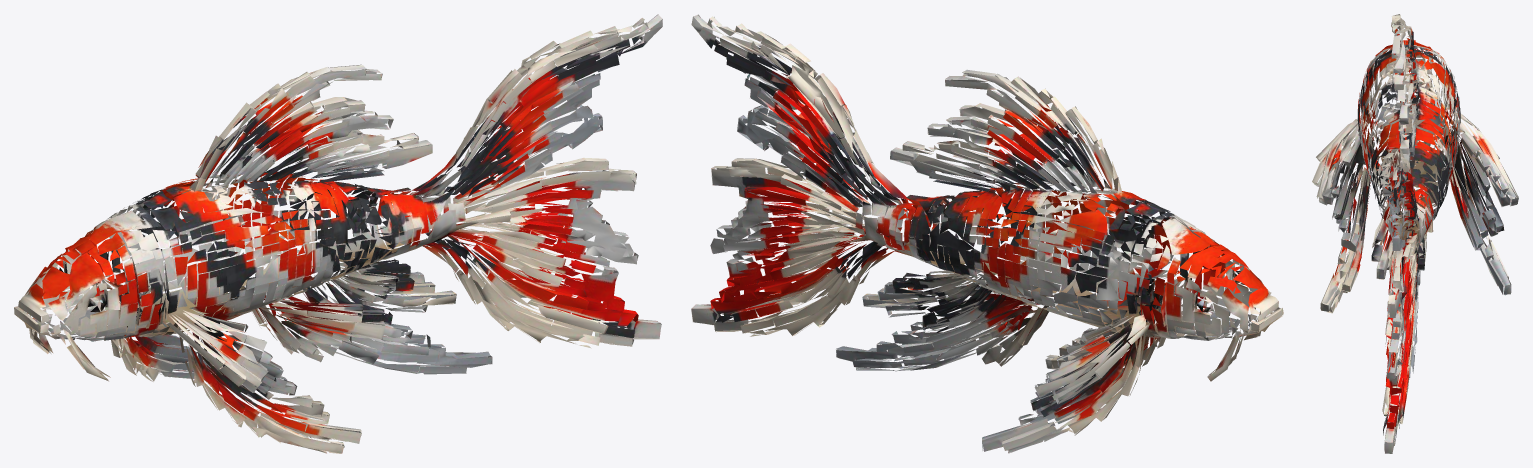
The model's file is butterfly_koi_a.glb.
The picture shows the model from 3 angles, left to right: view 1: azimuth 30°, elevation 25°; view 2: azimuth 150°, elevation 25°; view 3: azimuth 270°, elevation 25°; orthographic projection. The views are drawn at different scales.
Visible parts, largest first — view 1: node_0; view 2: node_0; view 3: node_0.
Part boxes in pixels (bbox=[...]): node_0: bbox=[14, 14, 662, 453]; node_0: bbox=[691, 14, 1283, 453]; node_0: bbox=[1312, 14, 1518, 453].
Size of the model in its own units: 1.06 by 0.5686 by 0.3659.
1 material, 1 textured.
